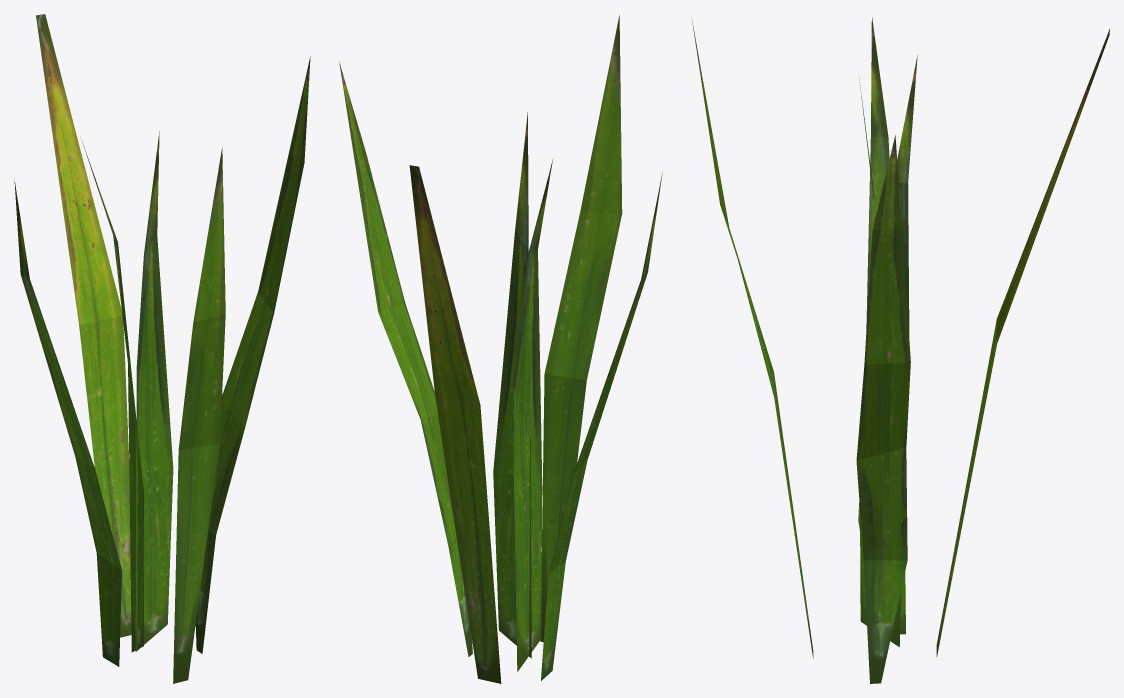
File: grass1.glb
3 views of the same model, side by side, from view 1: azimuth 30°, elevation 25°; view 2: azimuth 150°, elevation 25°; view 3: azimuth 270°, elevation 25° (orthographic). The views are drawn at different scales.
Parts seen in each view (by area): view 1: Grass1; view 2: Grass1; view 3: Grass1.
Boxes of the visible parts, x1,y1,x2,y2 form: Grass1: (14, 14, 310, 683); Grass1: (339, 15, 662, 683); Grass1: (692, 17, 1109, 683).
Bounding box in the file's own units: 0.5202 × 0.9439 × 0.5624.
Materials: 1 (1 with a texture image).
